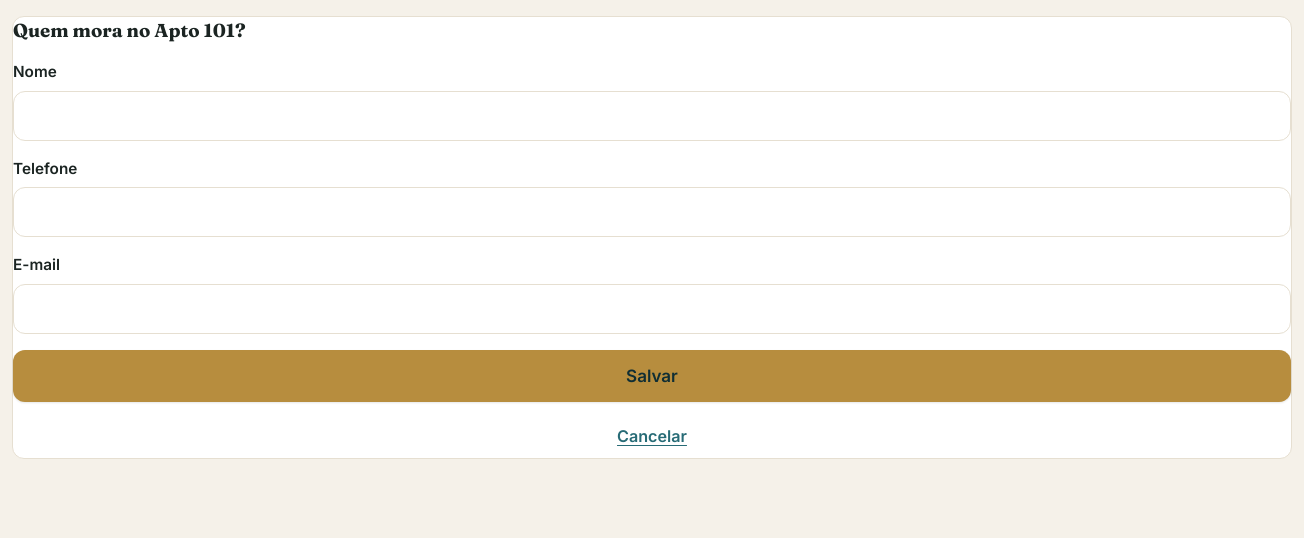
ResidentSheet › requires a name
Click the button "Salvar": click(652, 376) [13,350,1291,402]
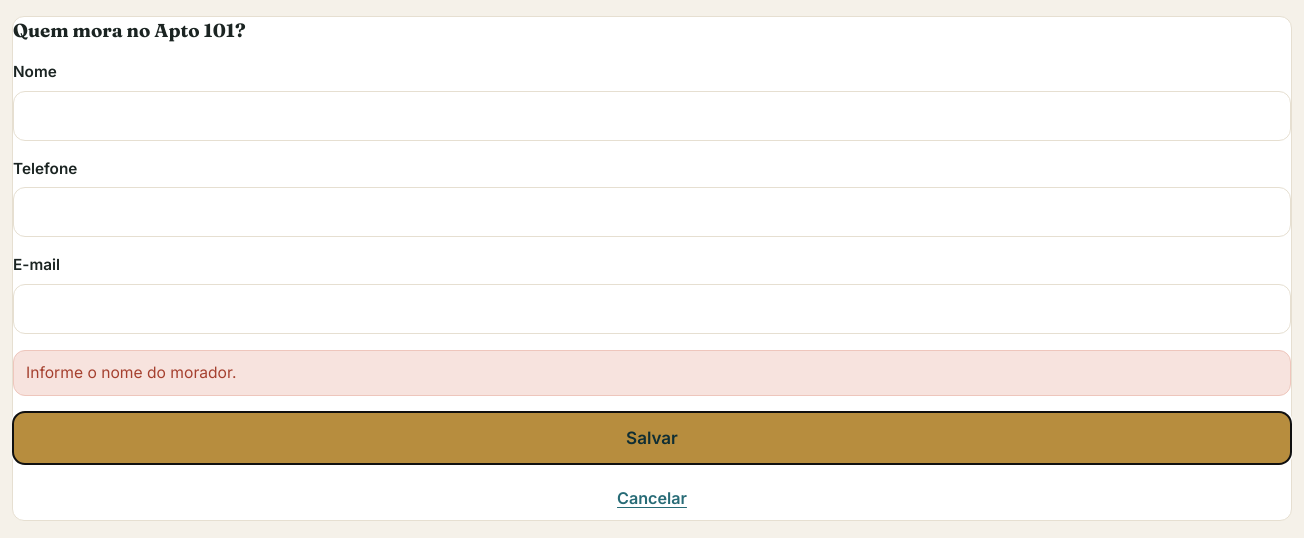
Now the message reads "Informe o nome do morador.", box [26,363,236,382]
